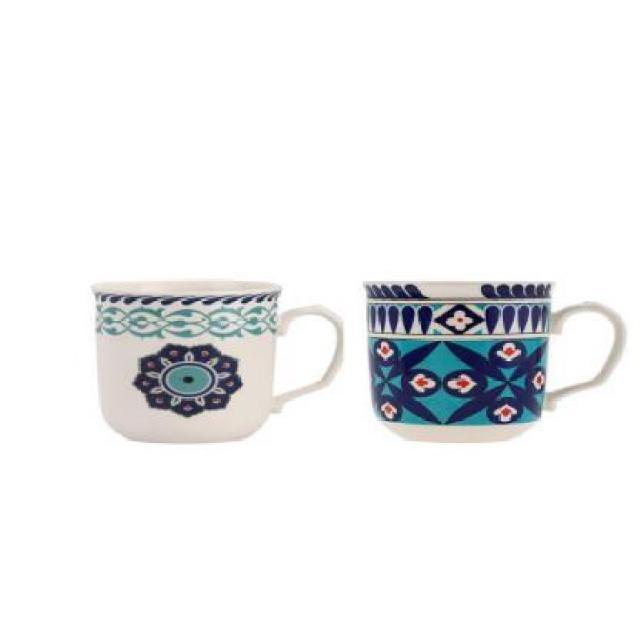taza: (360, 269, 629, 447), (90, 274, 344, 444)
